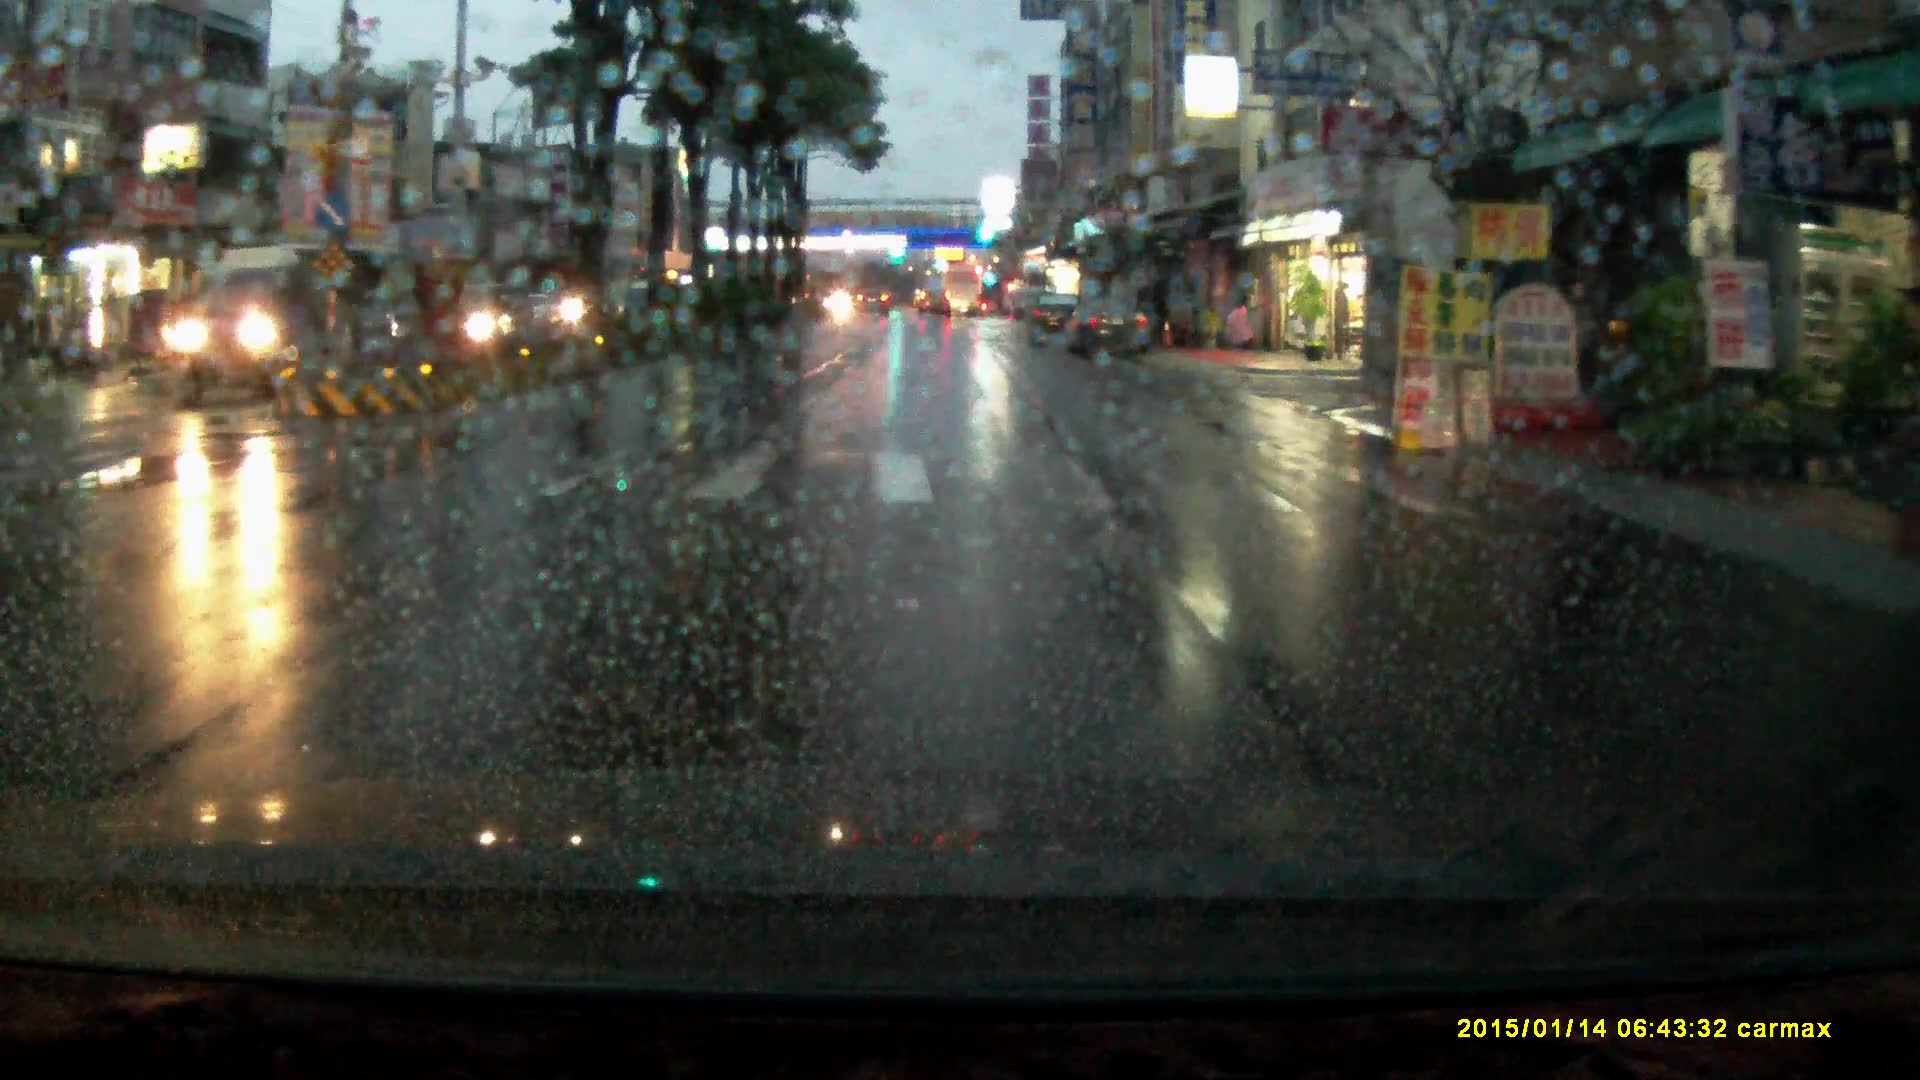vehicle: (164, 239, 407, 407), (406, 282, 538, 353), (1062, 291, 1154, 359), (1026, 289, 1083, 342), (939, 266, 984, 323), (920, 282, 953, 320), (855, 286, 891, 316)
